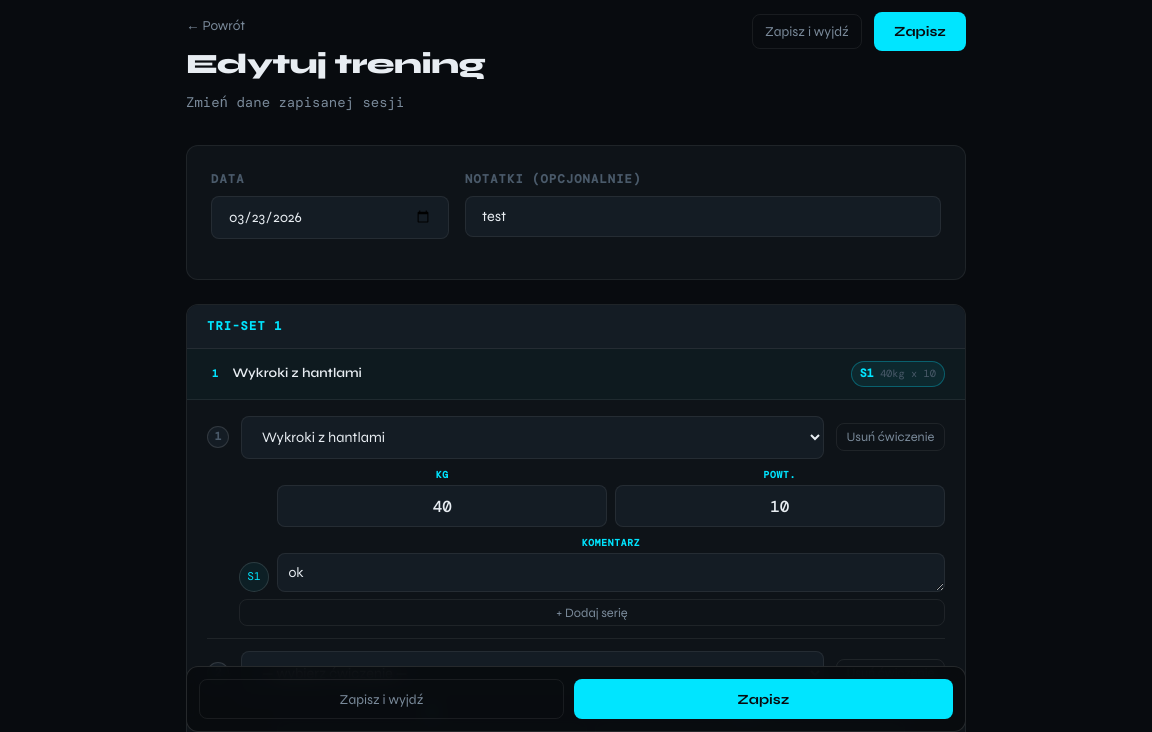
Test: NewSession exercise suggestions › in edit mode saves and stays on page when clicking Zapisz
Expected: the heading "Edytuj trening" is shown, [186, 42, 485, 87]
Click the button "Zapisz" in the row of "Edytuj trening": {"x": 920, "y": 32} [874, 12, 966, 51]
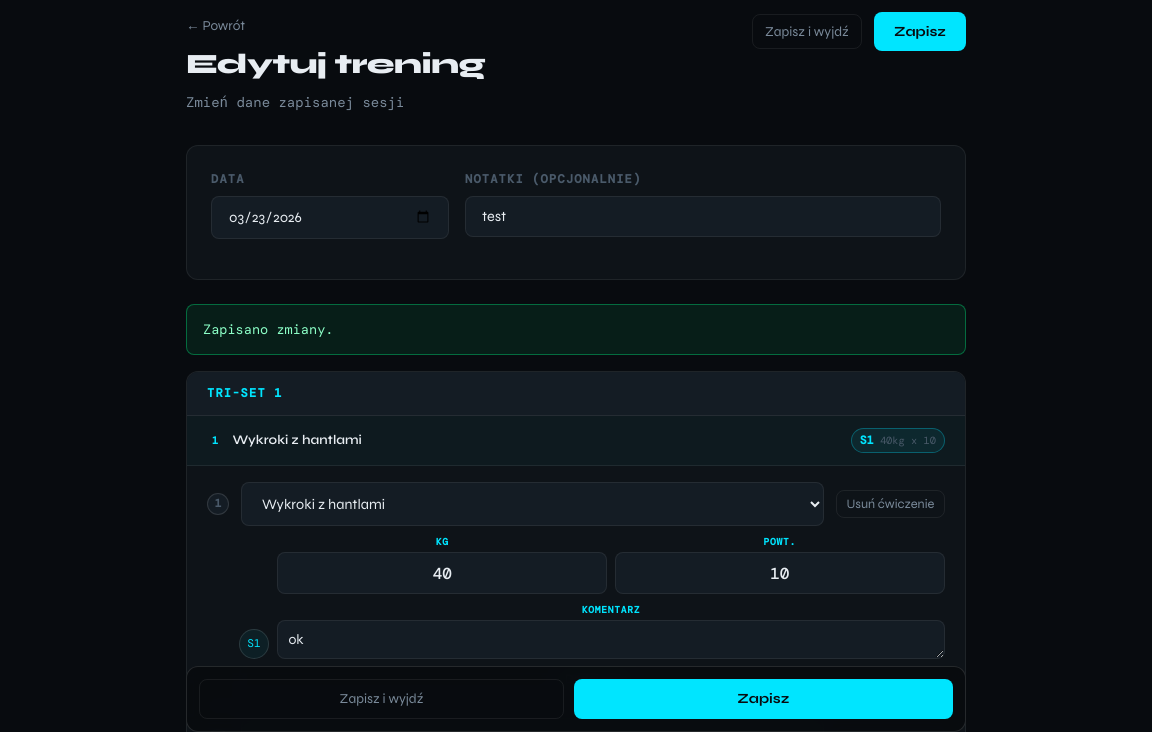
Expected: the text "Zapisano zmiany." is shown, [186, 304, 966, 355]
